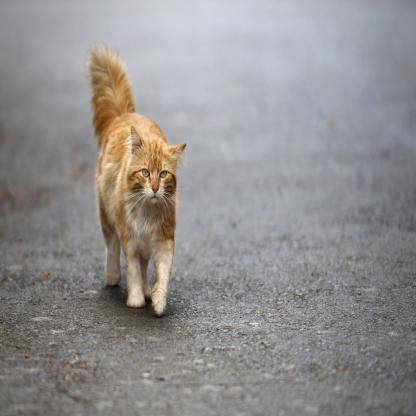cat: (82, 38, 182, 318)
